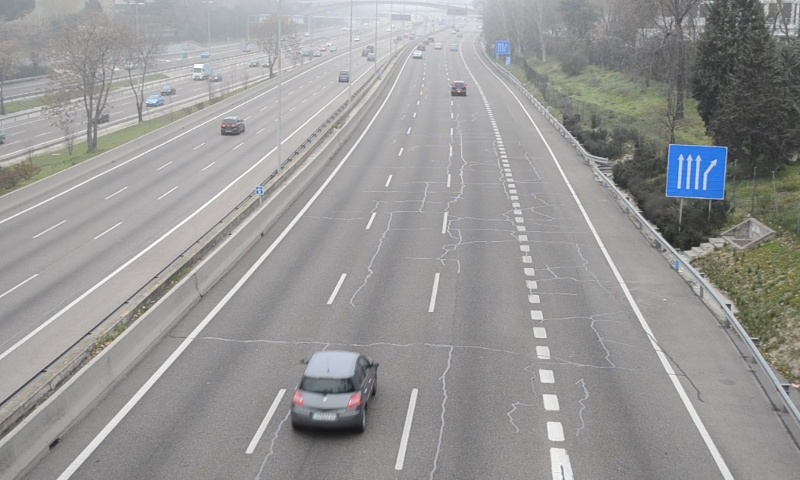car: (291, 350, 377, 430), (450, 79, 466, 95)
